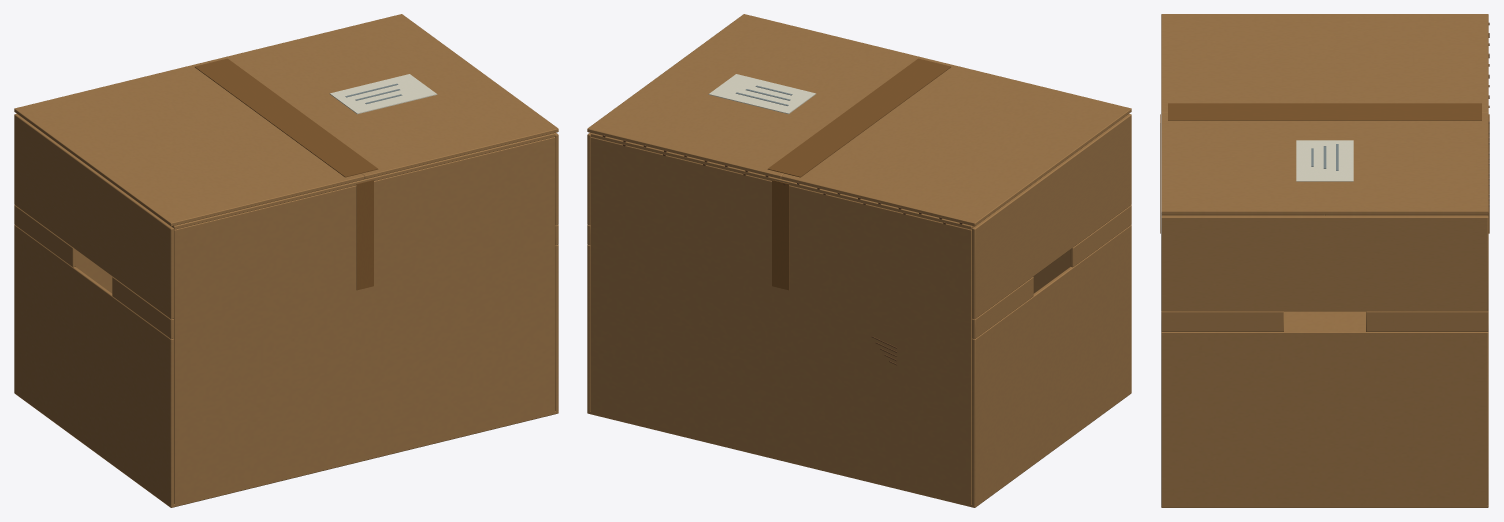
The model's file is DeliveryBoxLarge.gltf.
3 renders of one model, left to right at view 1: azimuth 30°, elevation 25°; view 2: azimuth 150°, elevation 25°; view 3: azimuth 270°, elevation 25°, orthographic. The views are drawn at different scales.
Visible parts, largest first — view 1: DeliveryBoxLarge__Body, DeliveryBoxLarge__FlapL, DeliveryBoxLarge__FlapR, DeliveryBoxLarge__FlapB; view 2: DeliveryBoxLarge__Body, DeliveryBoxLarge__FlapL, DeliveryBoxLarge__FlapR, DeliveryBoxLarge__FlapF; view 3: DeliveryBoxLarge__Body, DeliveryBoxLarge__FlapR, DeliveryBoxLarge__FlapL.
Boxes of the visible parts, x1=… form: DeliveryBoxLarge__Body: x1=14, y1=114, x2=558, y2=507; DeliveryBoxLarge__FlapL: x1=14, y1=61, x2=364, y2=226; DeliveryBoxLarge__FlapR: x1=208, y1=14, x2=558, y2=178; DeliveryBoxLarge__FlapB: x1=171, y1=133, x2=555, y2=229; DeliveryBoxLarge__Body: x1=587, y1=114, x2=1131, y2=507; DeliveryBoxLarge__FlapL: x1=781, y1=61, x2=1131, y2=226; DeliveryBoxLarge__FlapR: x1=587, y1=14, x2=937, y2=178; DeliveryBoxLarge__FlapF: x1=590, y1=133, x2=974, y2=229; DeliveryBoxLarge__Body: x1=1160, y1=114, x2=1489, y2=507; DeliveryBoxLarge__FlapR: x1=1161, y1=111, x2=1489, y2=214; DeliveryBoxLarge__FlapL: x1=1161, y1=14, x2=1489, y2=112.
Bounding box in the file's own units: 0.952 × 0.672 × 0.672.
Materials: 1 (1 with a texture image).
